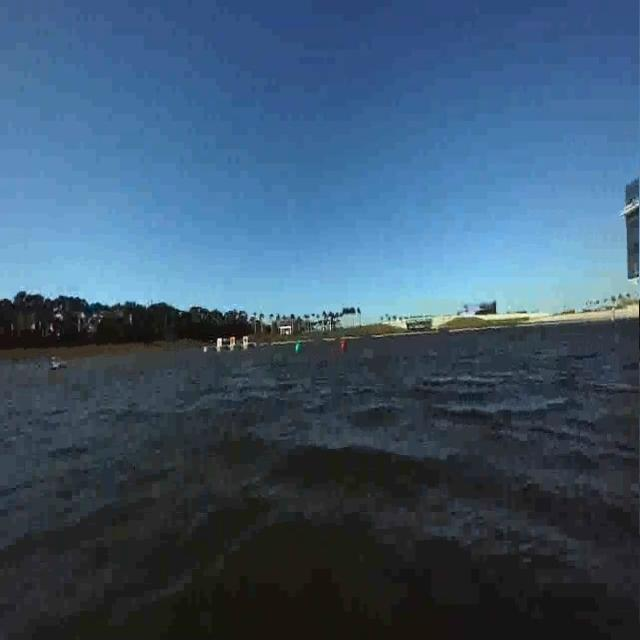red-buoy: (342, 339, 347, 354)
